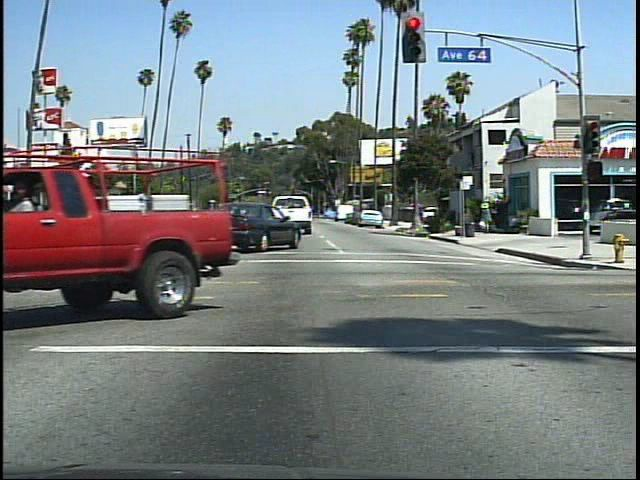person: (477, 199, 499, 238)
